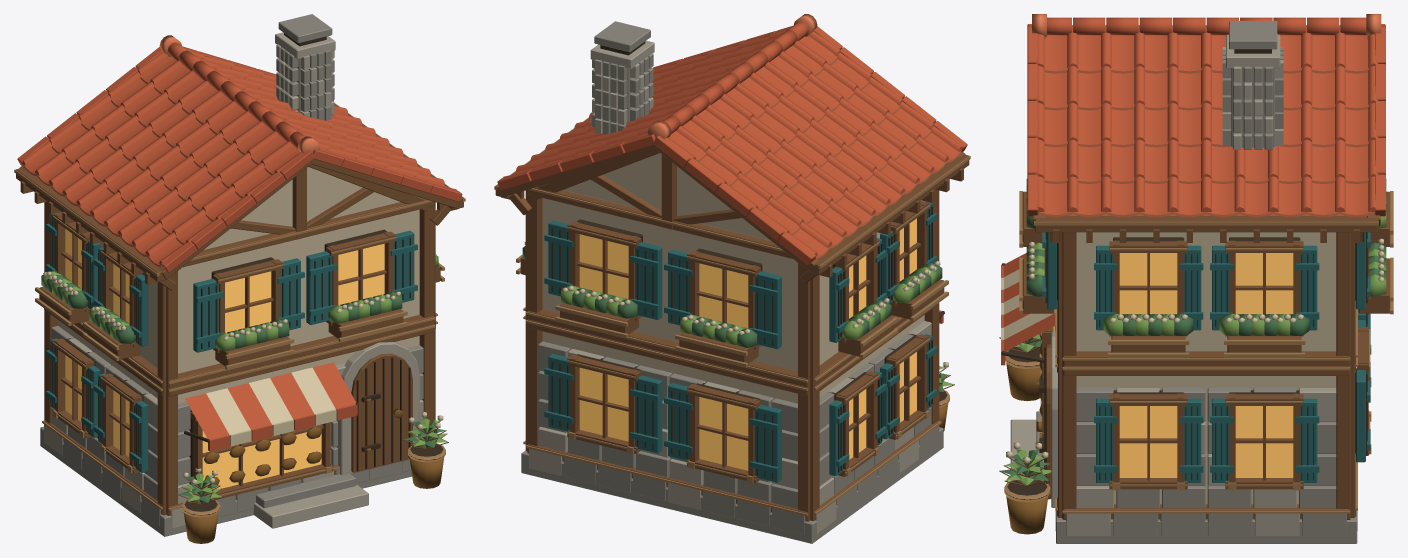
3 renders of one model, left to right at view 1: azimuth 30°, elevation 25°; view 2: azimuth 150°, elevation 25°; view 3: azimuth 270°, elevation 25°, orthographic. The views are drawn at different scales.
Visible parts, largest first — view 1: alpine_shop_2_geometry, alpine_shop_2_geometry ceramic; view 2: alpine_shop_2_geometry, alpine_shop_2_geometry ceramic; view 3: alpine_shop_2_geometry, alpine_shop_2_geometry ceramic.
Part boxes in pixels (x1,y1,x2,y2): alpine_shop_2_geometry: (14, 14, 465, 543); alpine_shop_2_geometry ceramic: (17, 35, 462, 451); alpine_shop_2_geometry: (494, 21, 970, 543); alpine_shop_2_geometry ceramic: (497, 14, 967, 323); alpine_shop_2_geometry: (999, 21, 1393, 543); alpine_shop_2_geometry ceramic: (1001, 14, 1385, 365).
Bounding box in the file's own units: 0.99 × 1.15 × 0.8515.
